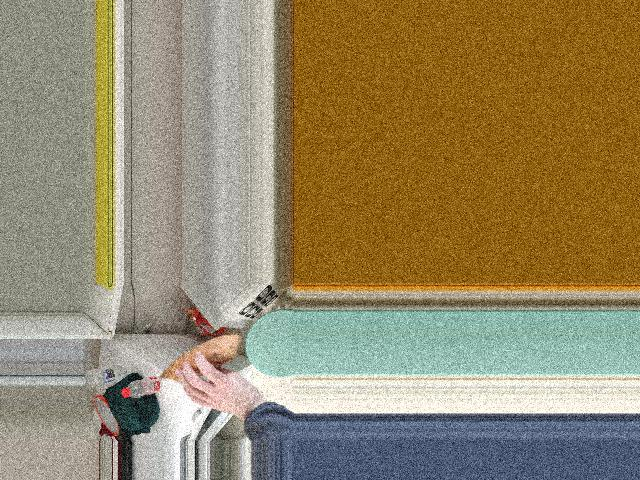sweet_potato: (165, 336, 227, 394)
